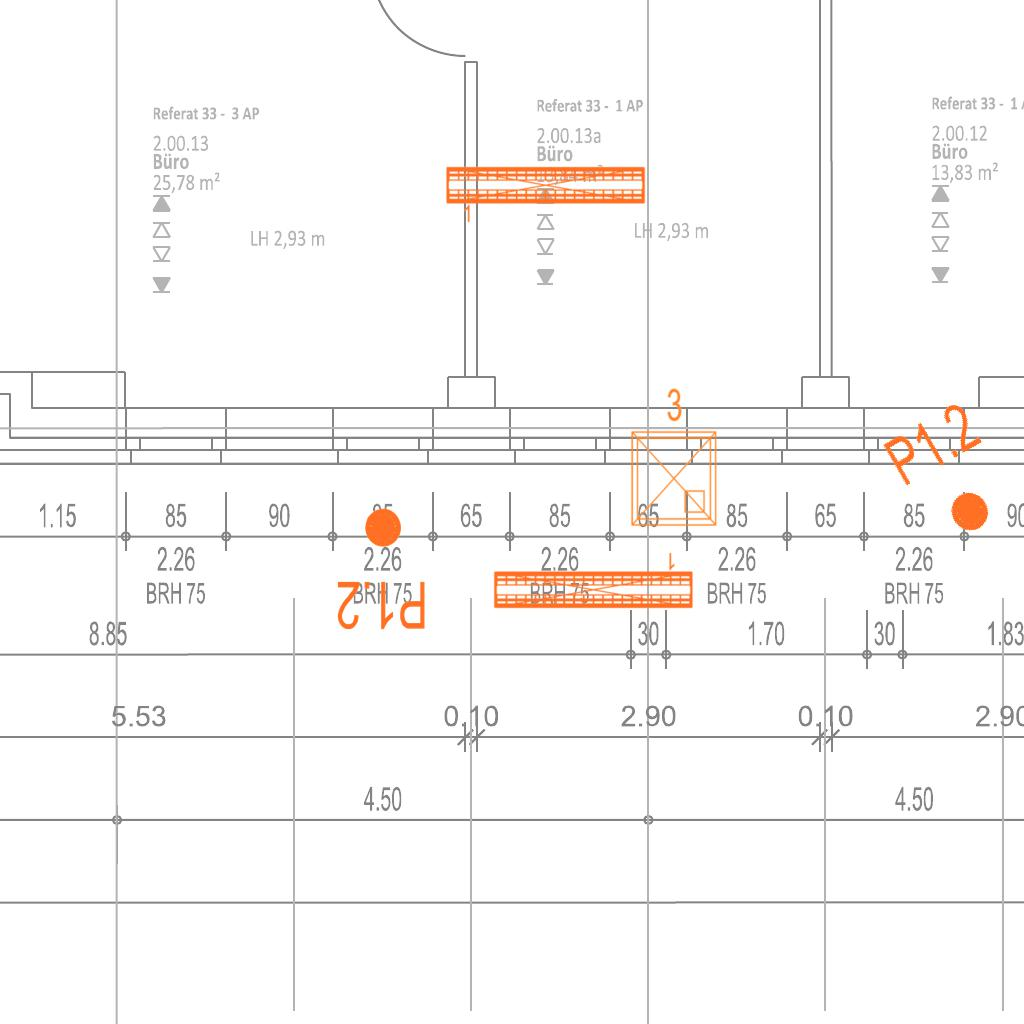Buero_Pendelleuchten_LED: (490, 548, 696, 613), (443, 162, 649, 227)
Downlight_LED_Einbauleuchten_Flur: (878, 396, 1023, 554), (335, 505, 428, 633)
Einbaudownlights_LED_Konferenzraeume: (620, 383, 724, 533)
